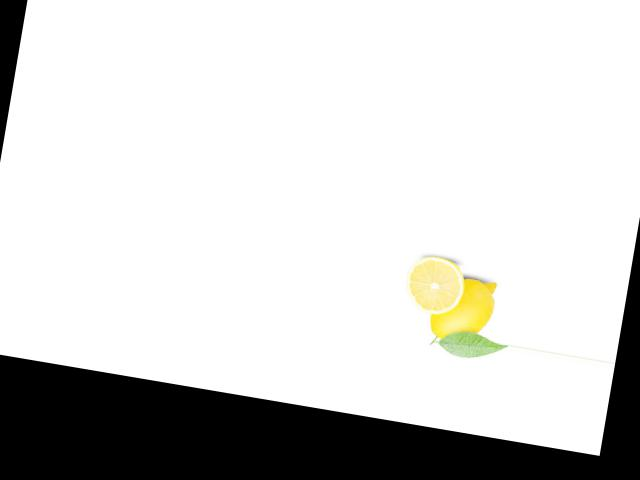lemon: (420, 267, 506, 358)
